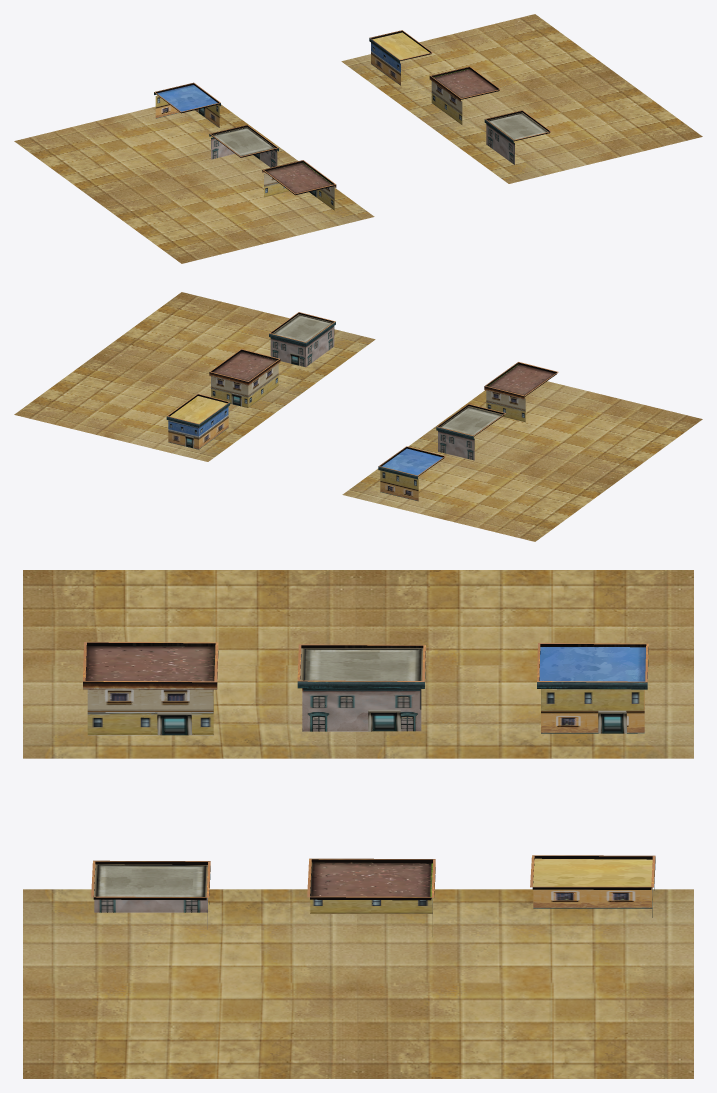
Rendered from us_smalltown_far.fbx.
3 views of the same model, one above another, from view 1: azimuth 30°, elevation 25°; view 2: azimuth 150°, elevation 25°; view 3: azimuth 270°, elevation 25° (orthographic). The views are drawn at different scales.
Visible parts, largest first — view 1: us_smalltown_far; view 2: us_smalltown_far; view 3: us_smalltown_far.
Boxes of the visible parts, x1,y1,x2,y2 form: us_smalltown_far: (14,14,702,263); us_smalltown_far: (14,292,702,541); us_smalltown_far: (23,570,693,1078).
Bounding box in the file's own units: 17936 × 916 × 10000.
